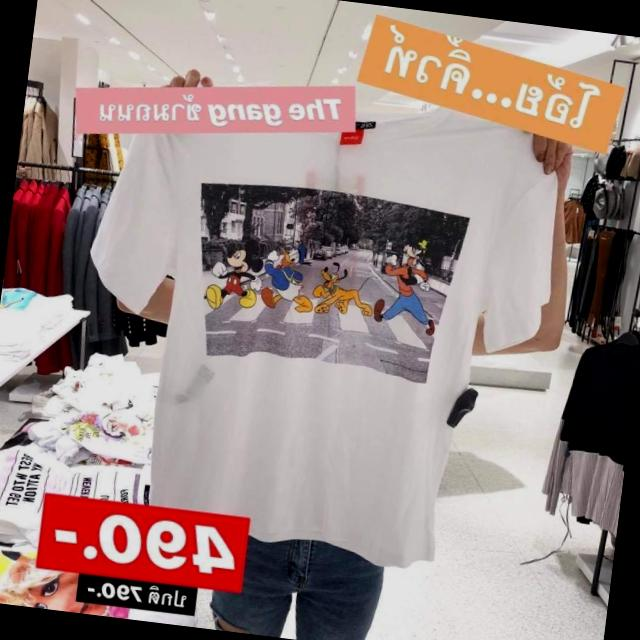Tshirt: (59, 73, 572, 564)
